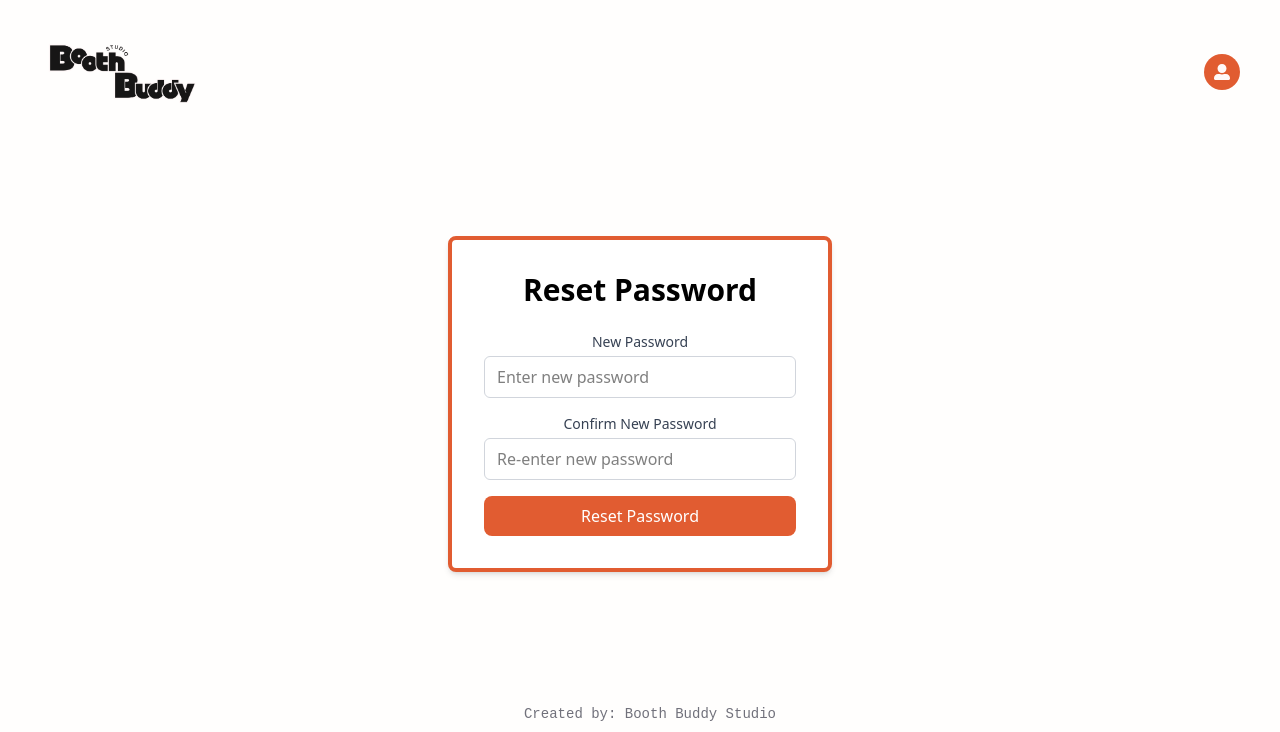
Scenario: ResetPasswordPage Component › should show error when password is invalid
Type "weak" into the password field with placeholder "Enter new password" at (640, 377), box [484,356,796,398]
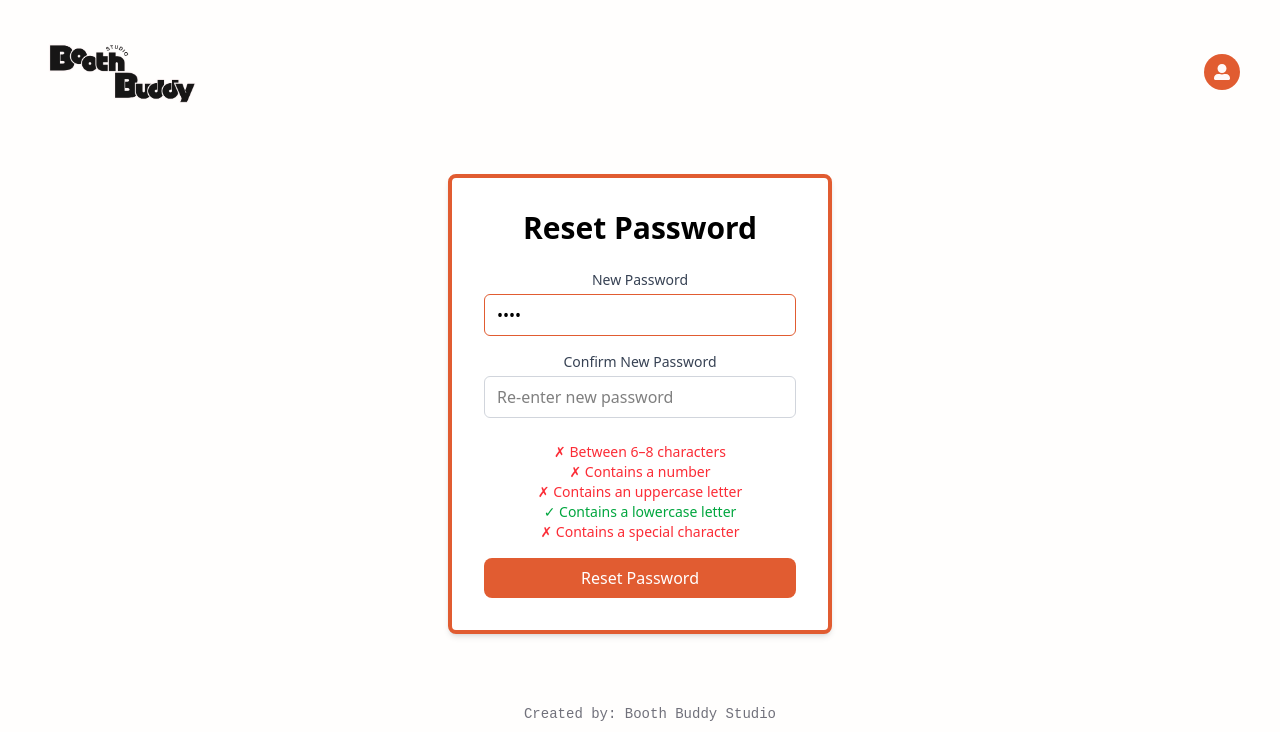
Type "weak" into the password field with placeholder "Re-enter new password" at (640, 397), box [484,376,796,418]
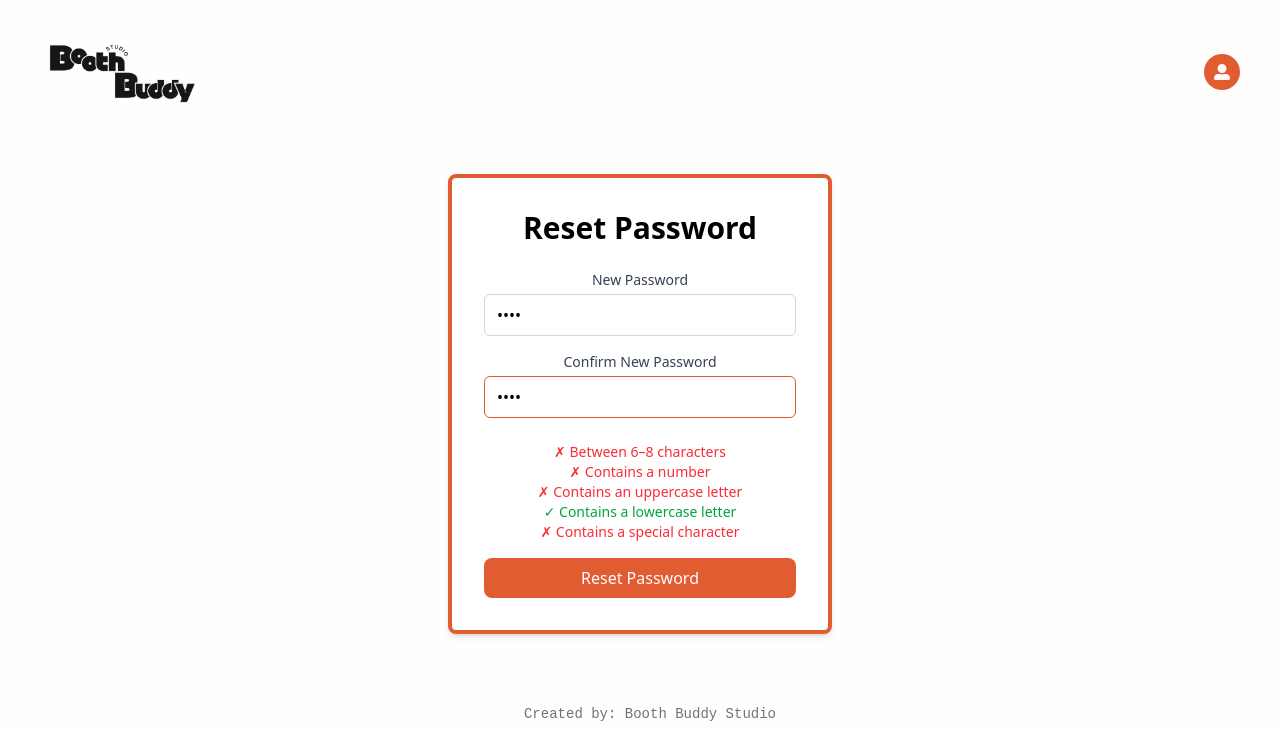
Click the button "Reset Password" at (640, 578), box [484,558,796,598]
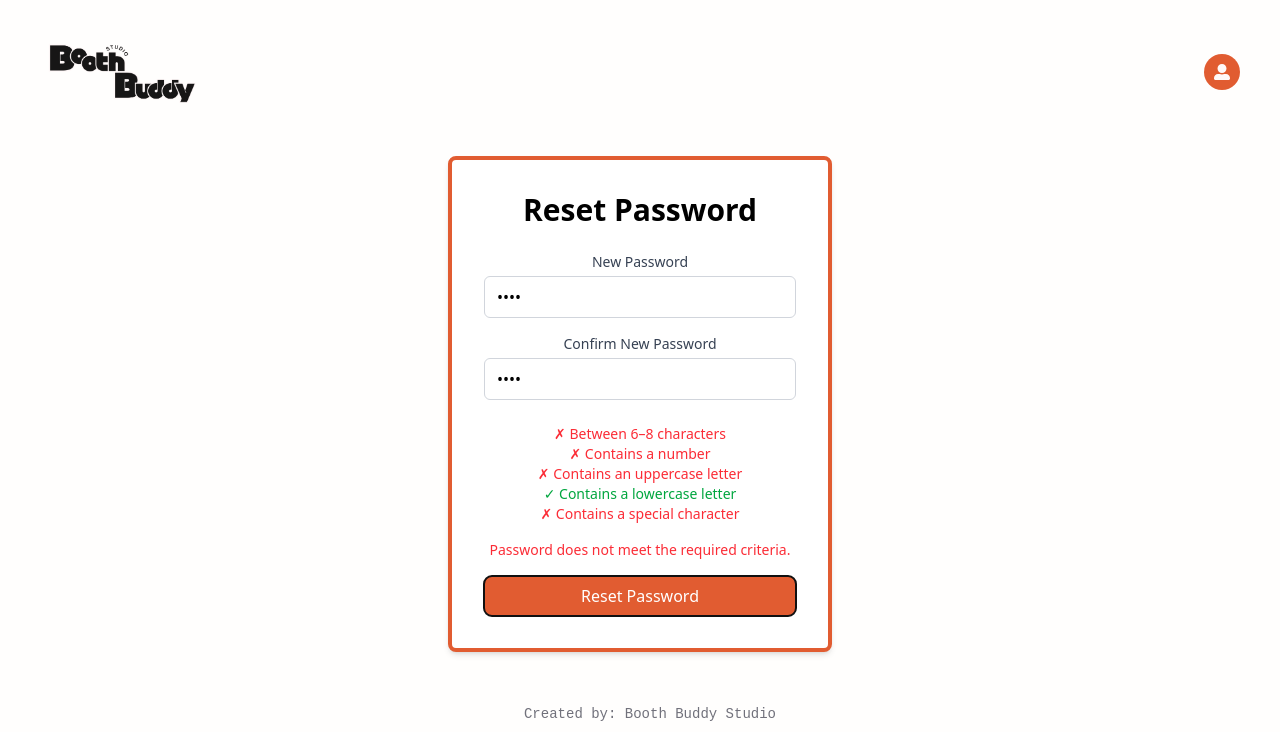
Expected: the text "Password does not meet the required criteria." is shown, [484,540,796,560]
